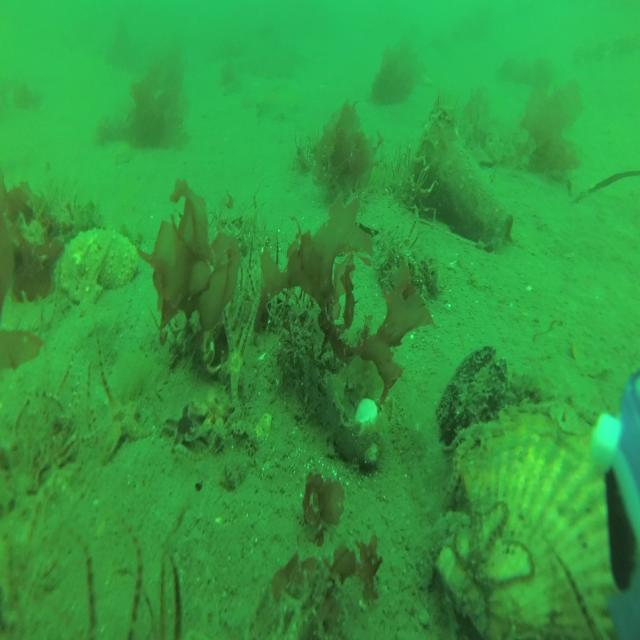scallop: (437, 401, 615, 640)
